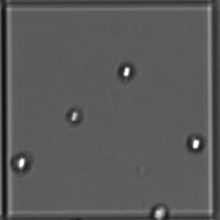Living Cell: (64, 102, 90, 132), (111, 60, 139, 87), (10, 149, 32, 179), (187, 130, 204, 158)
